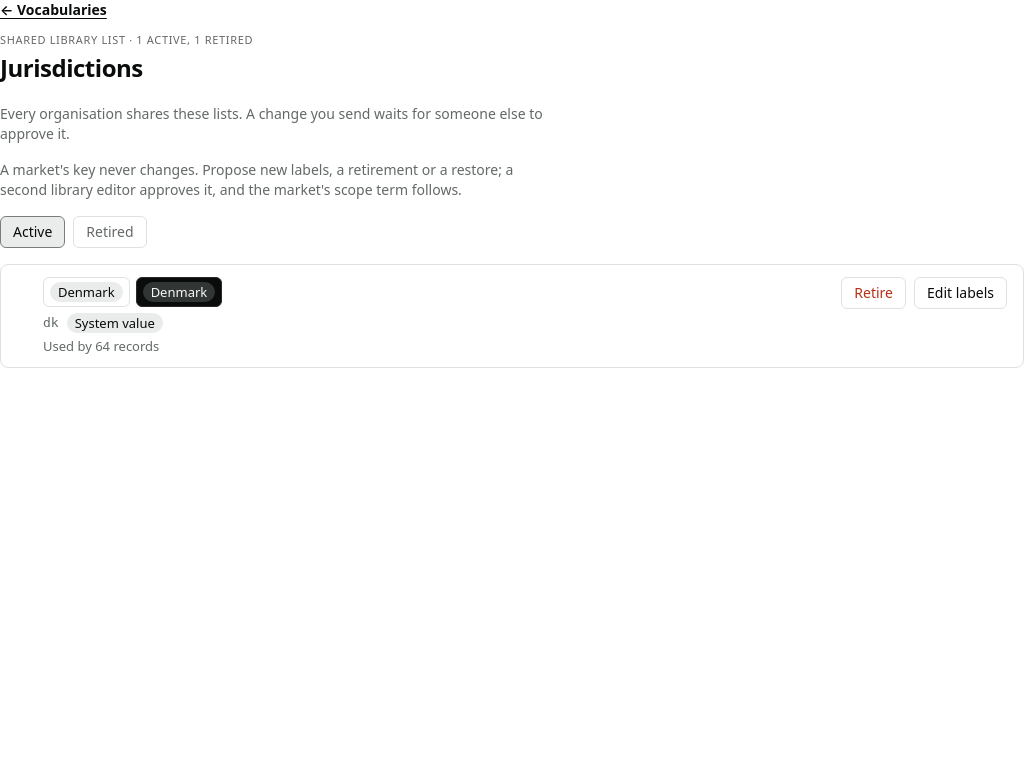
Test case: the jurisdictions on the console › proposes a retirement, naming what follows, and says it is waiting for review
The width and height of the screenshot is (1024, 768).
Click the button "Retire" at (874, 293), box [841,277,906,309]
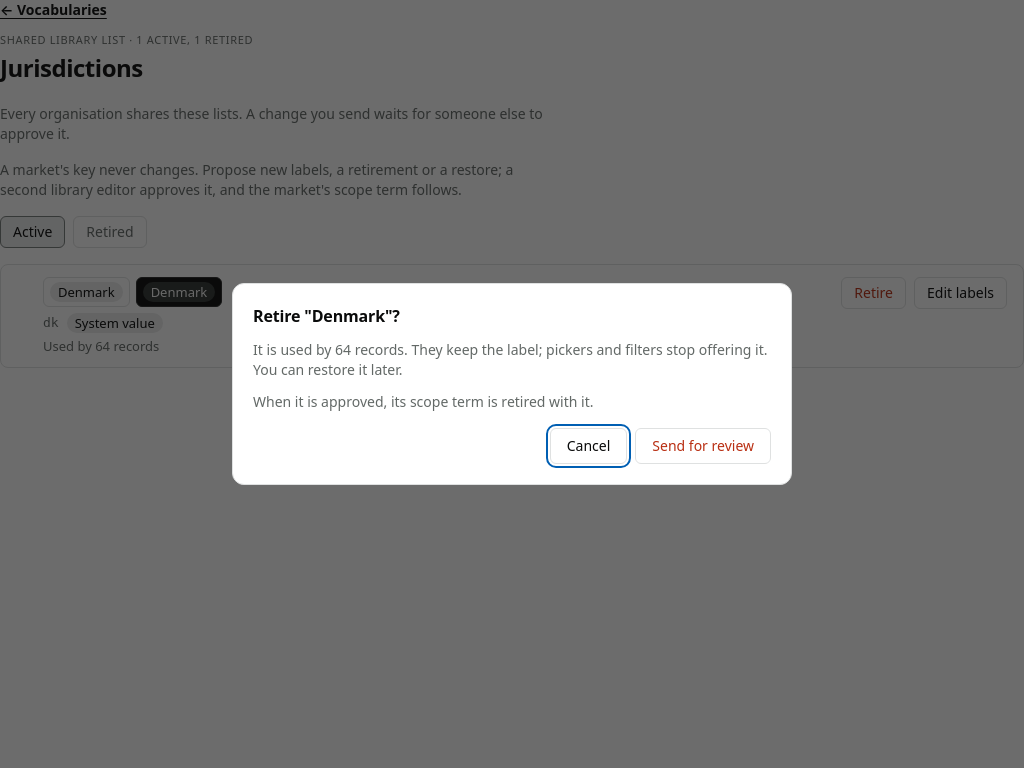
Expected: the text "When it is approved, its scope term is retired with it." is shown, [253,392,594,411]
Click the button "Send for review" at (703, 446), box [635,428,771,464]
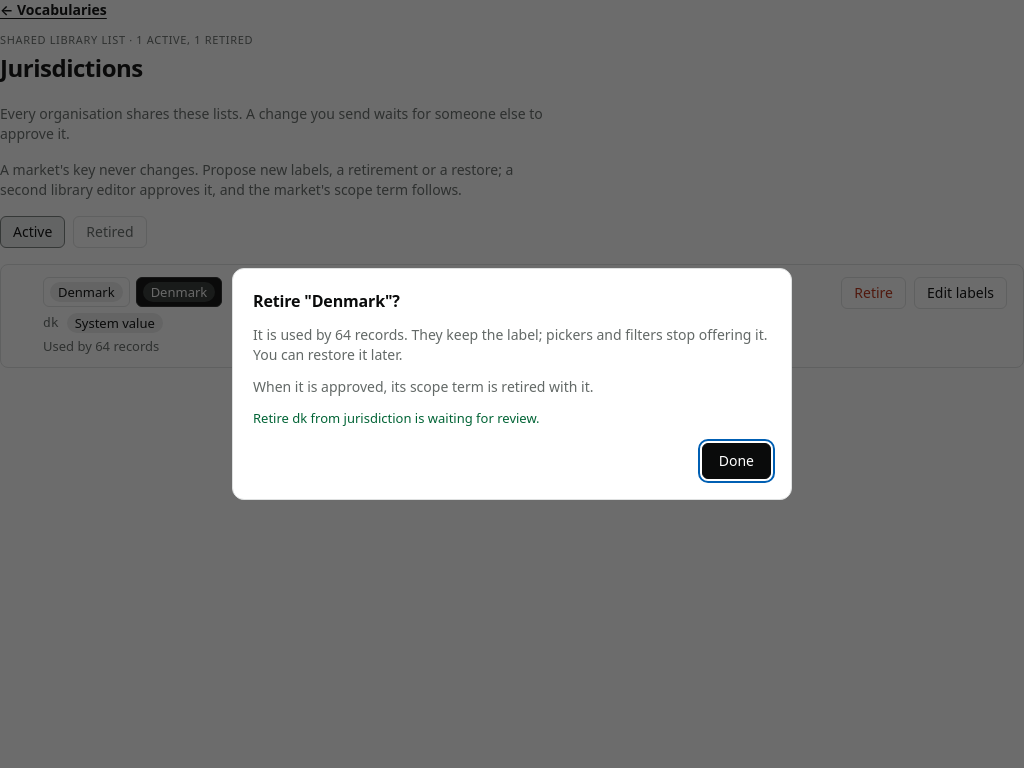
Expected: the text "Retire dk from jurisdiction is waiting for review." is shown, [253,409,540,427]
